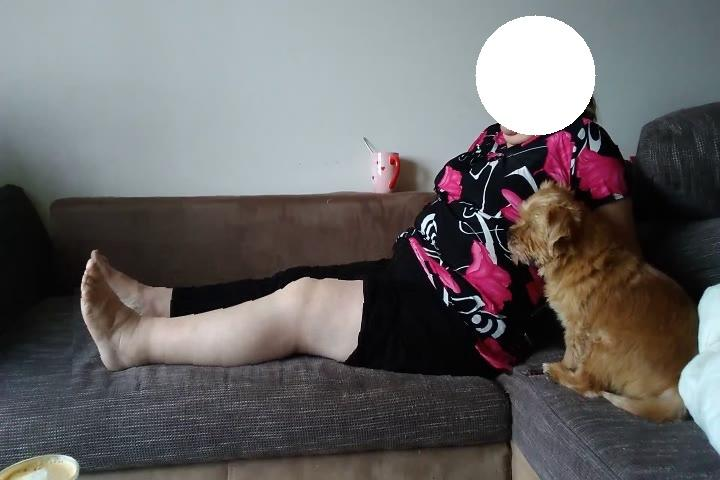lowerbody: (75, 244, 519, 391)
